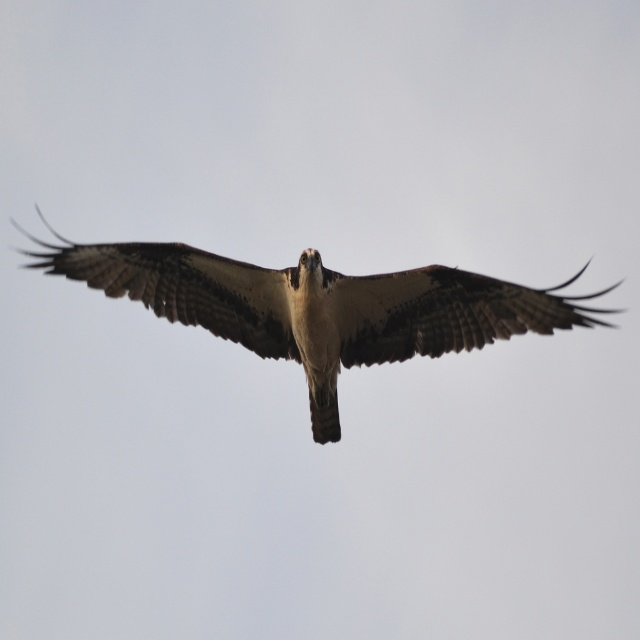Eagle: (6, 218, 636, 451)
